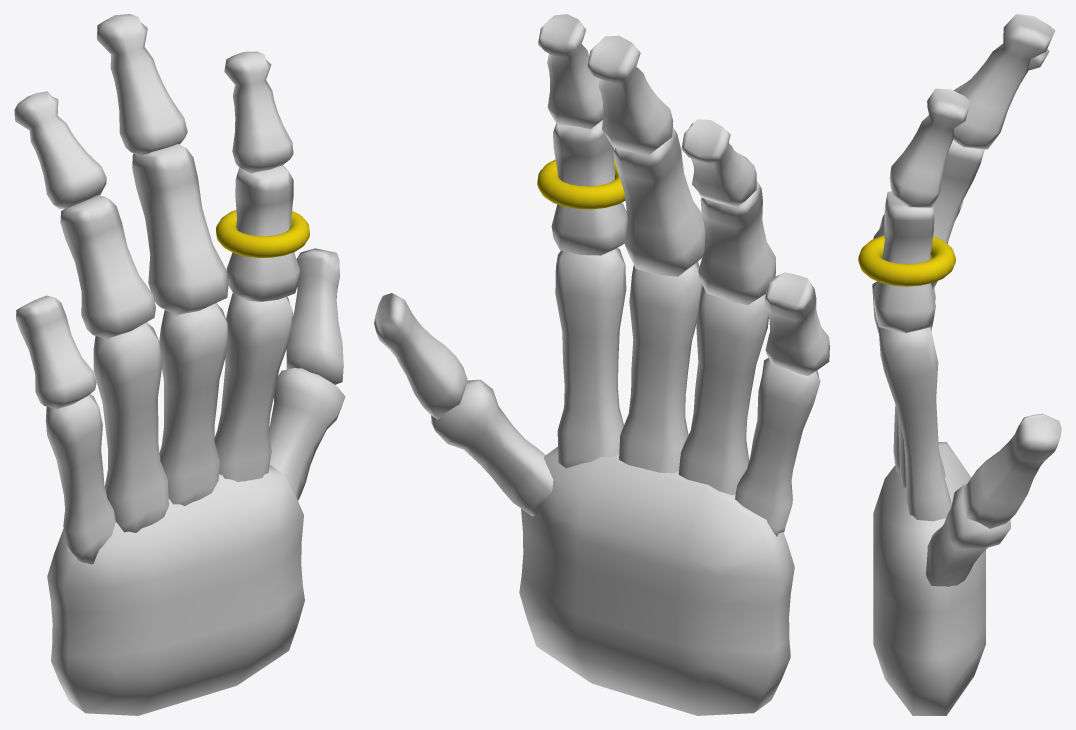
The model's file is ring finger lvl 5 pick up.fbx.
3 renders of one model, left to right at view 1: azimuth 30°, elevation 25°; view 2: azimuth 150°, elevation 25°; view 3: azimuth 270°, elevation 25°, orthographic. The views are drawn at different scales.
Parts seen in each view (by area): view 1: finger1; view 2: finger1; view 3: finger1.
Part boxes in pixels (x1,y1,x2,y2): finger1: [14, 14, 345, 715]; finger1: [374, 14, 829, 715]; finger1: [858, 14, 1061, 715].
Size of the model in its own units: 0.188 by 0.3231 by 0.0886.
